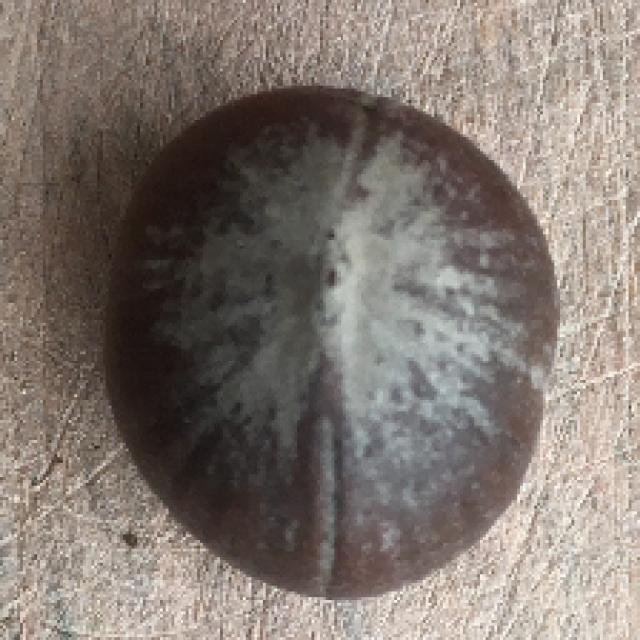damagedHazelnut: (99, 86, 560, 601)
